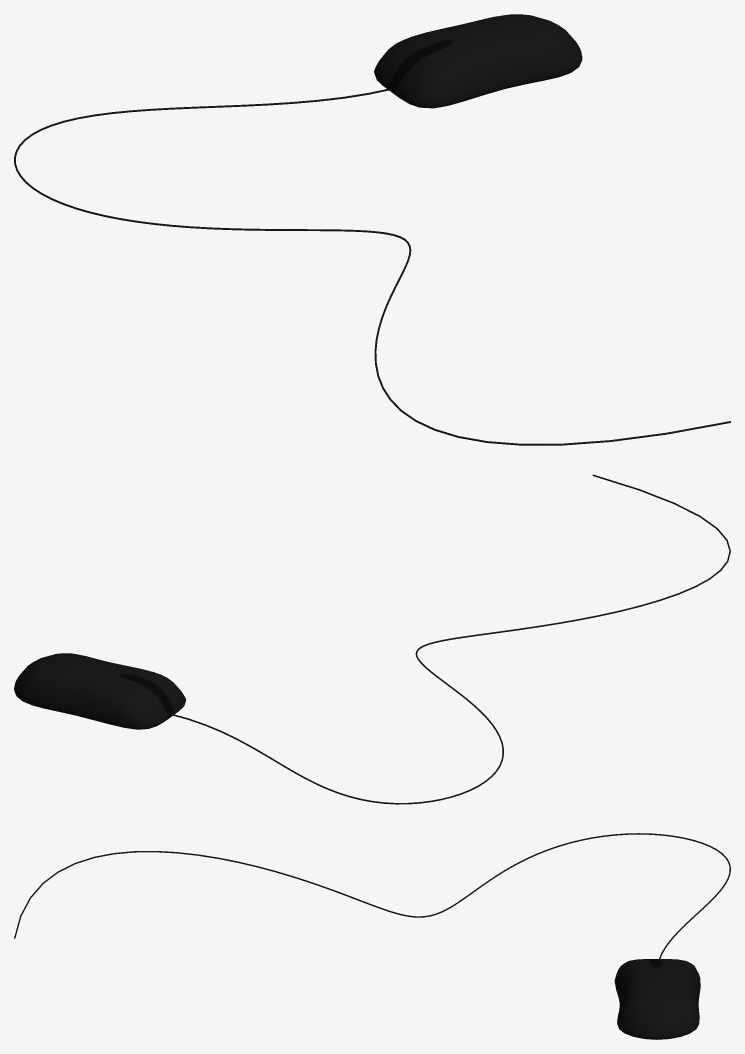
Rendered from InsiderTradingGame_Mouse.fbx.
3 views of the same model, one above another, from view 1: azimuth 30°, elevation 25°; view 2: azimuth 150°, elevation 25°; view 3: azimuth 270°, elevation 25° (orthographic). The views are drawn at different scales.
Visible parts, largest first — view 1: Cube.008; view 2: Cube.008; view 3: Cube.008.
Boxes of the visible parts, x1=… form: Cube.008: x1=14, y1=14, x2=730, y2=445; Cube.008: x1=14, y1=474, x2=730, y2=804; Cube.008: x1=14, y1=833, x2=730, y2=1039.
Size of the model in its own units: 227 by 15.99 by 336.
1 material, 1 textured.
